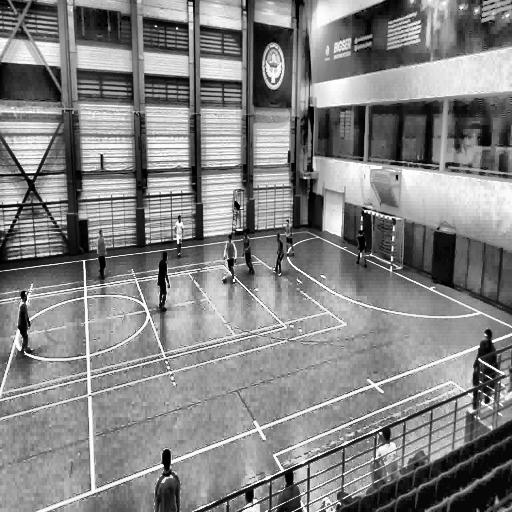ball: (223, 273, 228, 281)
player: (14, 290, 32, 356), (158, 250, 171, 312), (224, 234, 236, 285), (96, 228, 106, 279), (243, 230, 254, 276), (356, 228, 367, 268), (174, 215, 184, 258), (283, 219, 294, 258)
